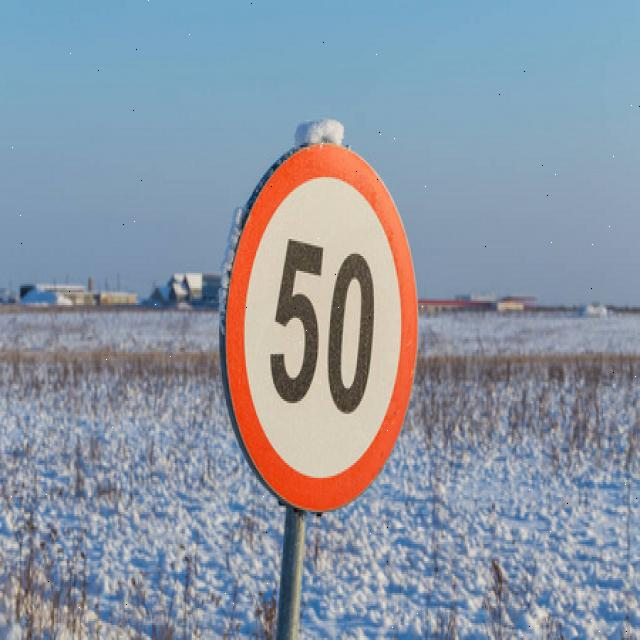speed limit 50: (224, 148, 419, 513)
